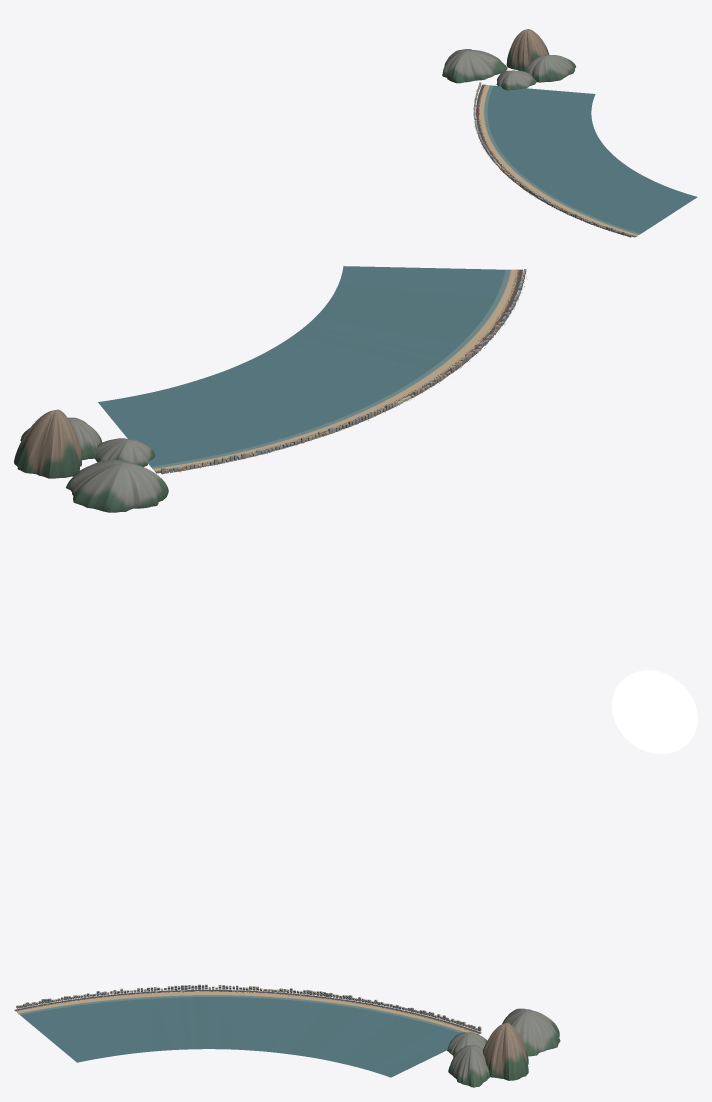
The model's file is copacabana.glb.
3 views of the same model, one above another, from view 1: azimuth 30°, elevation 25°; view 2: azimuth 150°, elevation 25°; view 3: azimuth 270°, elevation 25° (orthographic). The views are drawn at different scales.
Visible parts, largest first — view 1: Peaks, Land_003, Land_002, Land_001, Land_000, Land_004; view 2: Peaks, Land_002, Land_000, Land_003, Land_001, Land_004; view 3: Land_002, Land_001, Land_000, Land_003, Sun, Peaks, Land_004.
Part boxes in pixels (x1=…): Peaks: x1=442, y1=29, x2=575, y2=90; Land_003: x1=473, y1=110, x2=597, y2=148; Land_002: x1=484, y1=137, x2=619, y2=182; Land_001: x1=516, y1=160, x2=652, y2=213; Land_000: x1=567, y1=181, x2=697, y2=237; Land_004: x1=473, y1=82, x2=595, y2=112; Peaks: x1=14, y1=409, x2=168, y2=512; Land_002: x1=233, y1=338, x2=444, y2=422; Land_000: x1=327, y1=266, x2=526, y2=325; Land_003: x1=160, y1=368, x2=359, y2=457; Land_001: x1=290, y1=303, x2=501, y2=377; Land_004: x1=98, y1=390, x2=250, y2=474; Land_002: x1=213, y1=985, x2=321, y2=1053; Land_001: x1=112, y1=984, x2=217, y2=1052; Land_000: x1=14, y1=991, x2=142, y2=1062; Land_003: x1=283, y1=992, x2=419, y2=1064; Sun: x1=611, y1=670, x2=697, y2=753; Peaks: x1=447, y1=1008, x2=560, y2=1087; Land_004: x1=348, y1=1010, x2=481, y2=1077.
Bounding box in the file's own units: 6288 × 1357 × 6278.
